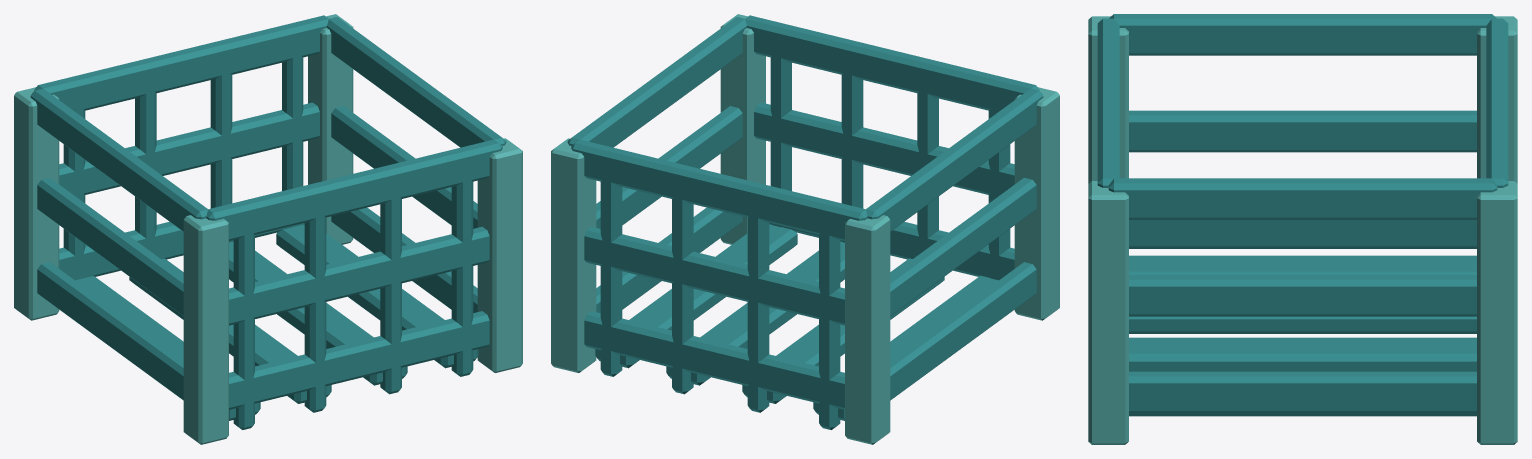
File: Crate_Plastic.glb
The picture shows the model from 3 angles, left to right: view 1: azimuth 30°, elevation 25°; view 2: azimuth 150°, elevation 25°; view 3: azimuth 270°, elevation 25°; orthographic projection. The views are drawn at different scales.
Parts seen in each view (by area): view 1: Crate_Plastic; view 2: Crate_Plastic; view 3: Crate_Plastic.
Boxes of the visible parts, x1,y1,x2,y2 form: Crate_Plastic: (14,14,522,444); Crate_Plastic: (551,14,1059,444); Crate_Plastic: (1088,14,1517,444).
Size of the model in its own units: 0.685 by 0.4525 by 0.685.
